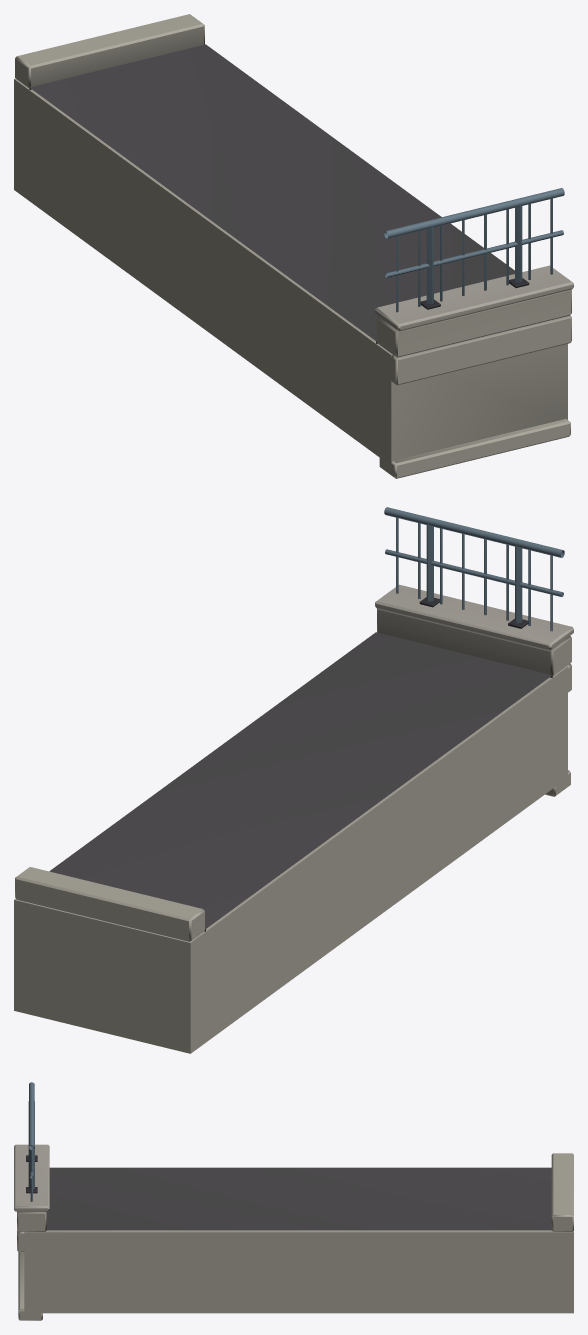
Rendered from UnderpassDeck.fbx.
The picture shows the model from 3 angles, top to bottom: view 1: azimuth 30°, elevation 25°; view 2: azimuth 150°, elevation 25°; view 3: azimuth 270°, elevation 25°; orthographic projection. The views are drawn at different scales.
Visible parts, largest first — view 1: UnderpassDeck; view 2: UnderpassDeck; view 3: UnderpassDeck.
Boxes of the visible parts, x1=… form: UnderpassDeck: x1=14, y1=14, x2=573, y2=478; UnderpassDeck: x1=14, y1=507, x2=573, y2=1053; UnderpassDeck: x1=14, y1=1082, x2=573, y2=1320.
Size of the model in its own units: 2 by 2.62 by 7.54.
